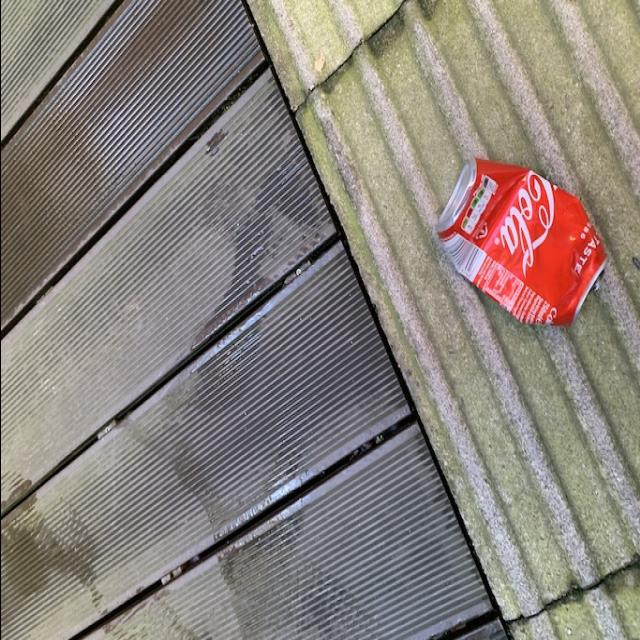Aluminum Can: (432, 150, 606, 338)
